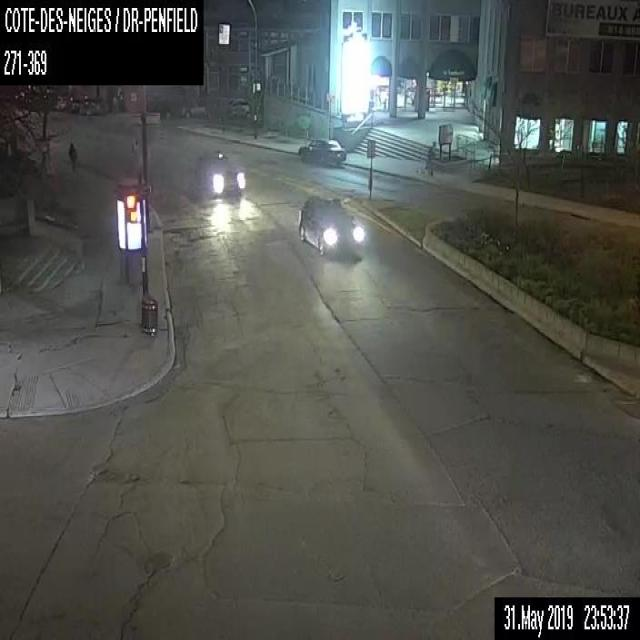pedestrian: (426, 140, 436, 177), (68, 141, 76, 175)
vehicle: (296, 194, 364, 254), (193, 151, 245, 196), (298, 136, 348, 164), (182, 99, 213, 118), (224, 96, 250, 116), (74, 92, 98, 113)
